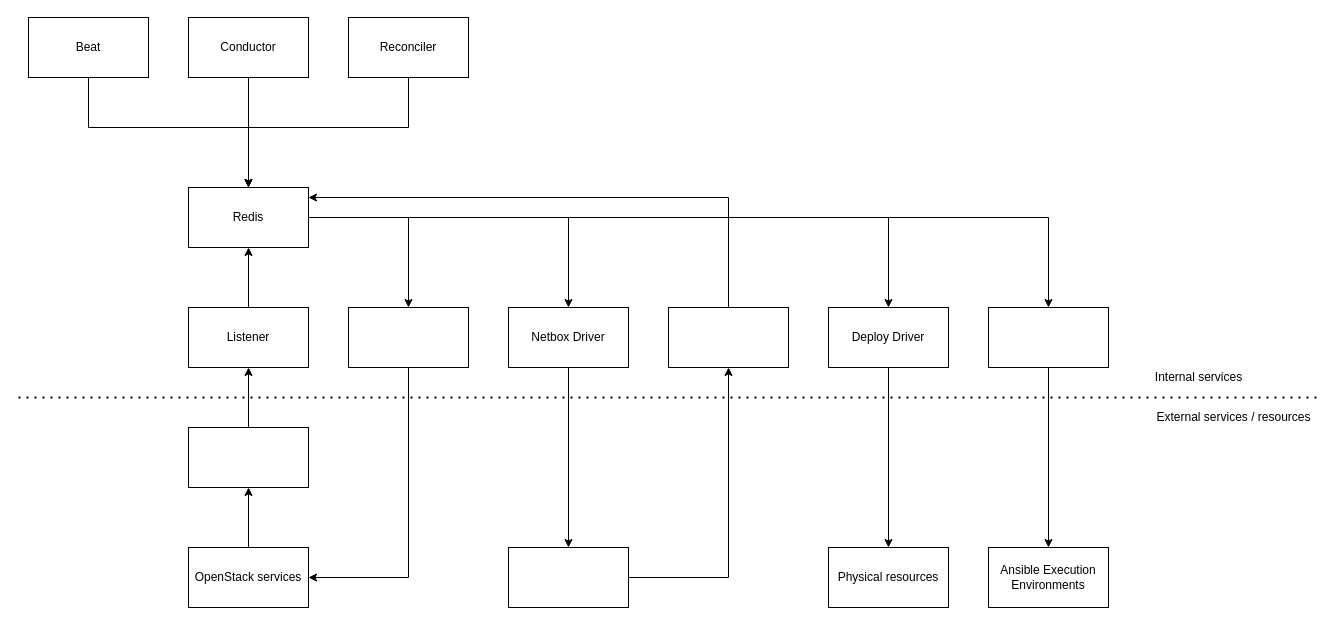
Some shapes in this 1337 by 625 pixel diagram are drawn without their labels. The box of each missing label's shape, as (x1, y1, x2, y2) in pixels:
Ansible Driver: (988, 306, 1108, 368)
API: (668, 306, 788, 368)
Netbox: (508, 546, 628, 608)
OpenStack Driver: (348, 306, 468, 368)
RabbitMQ: (188, 426, 308, 488)
